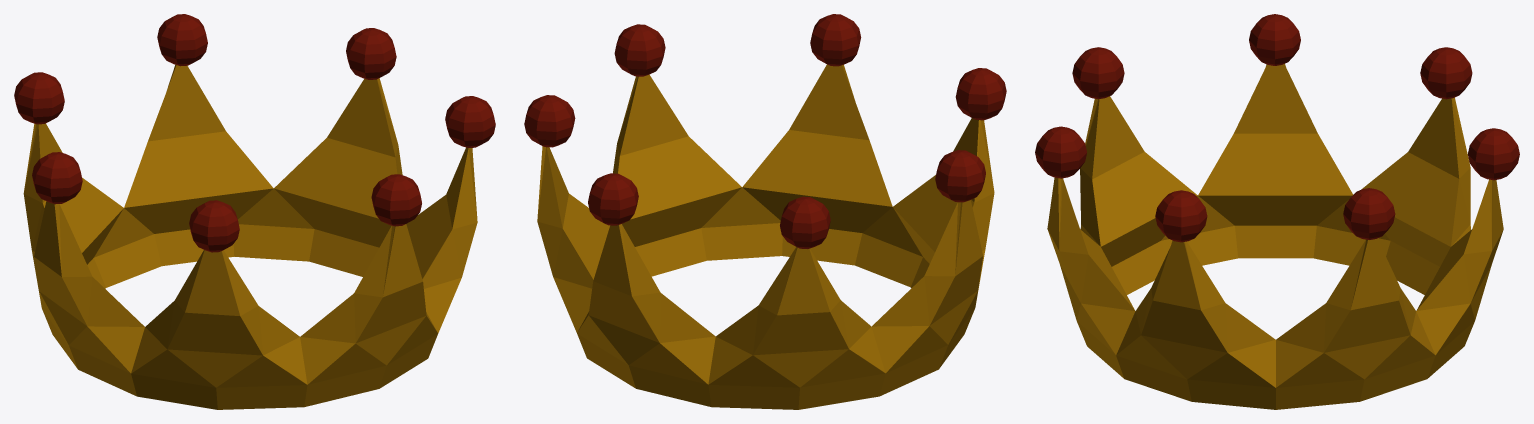
Rendered from crown.dae.
3 views of the same model, side by side, from view 1: azimuth 30°, elevation 25°; view 2: azimuth 150°, elevation 25°; view 3: azimuth 270°, elevation 25° (orthographic).
Visible parts, largest first — view 1: Sphere_006; view 2: Sphere_006; view 3: Sphere_006.
Part boxes in pixels (x1,y1,x2,y2): Sphere_006: [14, 14, 495, 409]; Sphere_006: [524, 14, 1006, 409]; Sphere_006: [1035, 14, 1519, 409].
Size of the model in its own units: 2.18 by 2.24 by 1.13.
